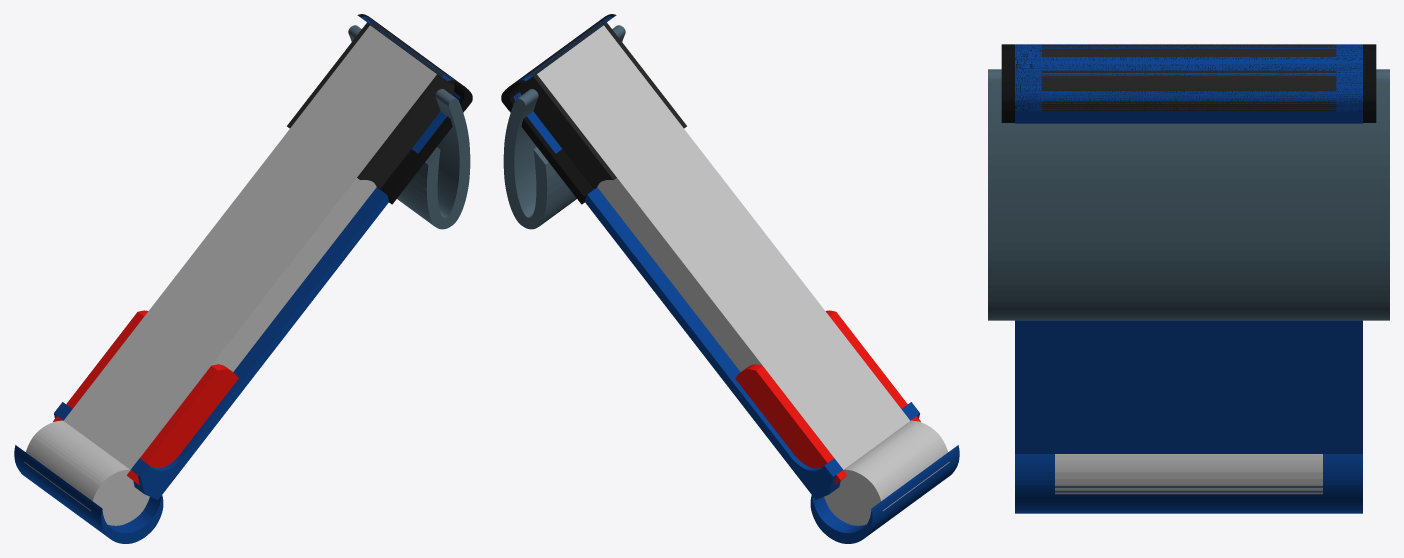
The picture shows the model from 3 angles, left to right: view 1: azimuth 30°, elevation 25°; view 2: azimuth 150°, elevation 25°; view 3: azimuth 270°, elevation 25°; orthographic projection. The views are drawn at different scales.
Parts seen in each view (by area): view 1: U+1F9AF_layer00_obj00, U+1F9AF_layer03_obj01, U+1F9AF_layer00_obj01, U+1F9AF_layer05_obj00, U+1F9AF_layer02_obj00, U+1F9AF_layer01_obj00, U+1F9AF_layer03_obj00, U+1F9AF_layer04_obj00; view 2: U+1F9AF_layer00_obj00, U+1F9AF_layer03_obj01, U+1F9AF_layer00_obj01, U+1F9AF_layer05_obj00, U+1F9AF_layer02_obj00, U+1F9AF_layer01_obj00, U+1F9AF_layer03_obj00, U+1F9AF_layer04_obj00; view 3: U+1F9AF_layer05_obj00, U+1F9AF_layer03_obj01, U+1F9AF_layer01_obj00, U+1F9AF_layer03_obj00, U+1F9AF_layer00_obj01, U+1F9AF_layer04_obj00.
Part boxes in pixels (x1,y1,x2,y2): U+1F9AF_layer00_obj00: (63, 25, 436, 472); U+1F9AF_layer03_obj01: (54, 16, 460, 499); U+1F9AF_layer00_obj01: (24, 420, 149, 525); U+1F9AF_layer05_obj00: (348, 25, 470, 229); U+1F9AF_layer02_obj00: (53, 310, 238, 485); U+1F9AF_layer01_obj00: (287, 21, 454, 188); U+1F9AF_layer03_obj00: (14, 445, 163, 543); U+1F9AF_layer04_obj00: (357, 14, 472, 204); U+1F9AF_layer00_obj00: (537, 25, 910, 469); U+1F9AF_layer03_obj01: (513, 16, 919, 499); U+1F9AF_layer00_obj01: (824, 420, 949, 525); U+1F9AF_layer05_obj00: (503, 25, 625, 229); U+1F9AF_layer02_obj00: (735, 310, 920, 485); U+1F9AF_layer01_obj00: (519, 21, 686, 188); U+1F9AF_layer03_obj00: (810, 445, 959, 543); U+1F9AF_layer04_obj00: (501, 14, 616, 204); U+1F9AF_layer05_obj00: (988, 69, 1389, 320); U+1F9AF_layer03_obj01: (1015, 44, 1362, 453); U+1F9AF_layer01_obj00: (1041, 44, 1336, 111); U+1F9AF_layer03_obj00: (1015, 454, 1362, 513); U+1F9AF_layer00_obj01: (1055, 454, 1322, 494); U+1F9AF_layer04_obj00: (1001, 44, 1376, 122).
Bounding box in the file's own units: 0.3172 × 0.3174 × 0.15.
